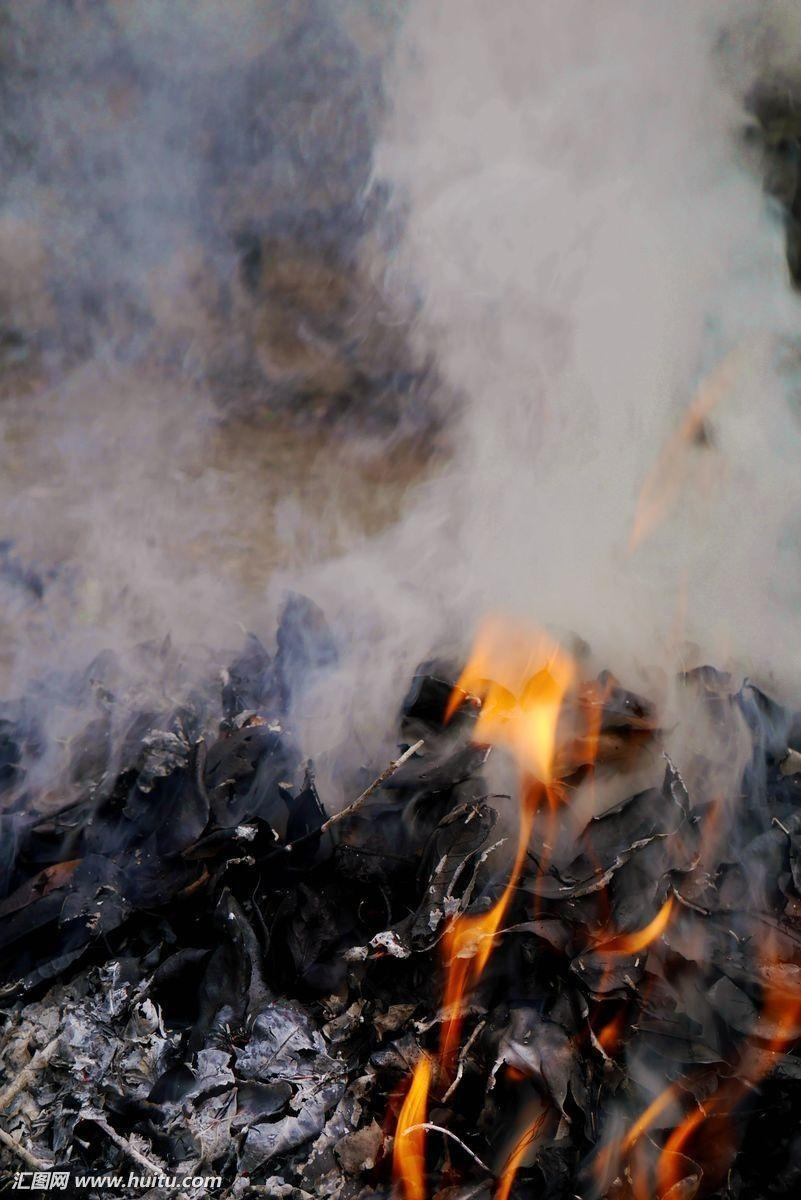fire: (401, 571, 800, 1200)
